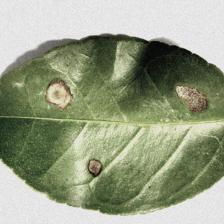canker: (32, 72, 212, 188)
